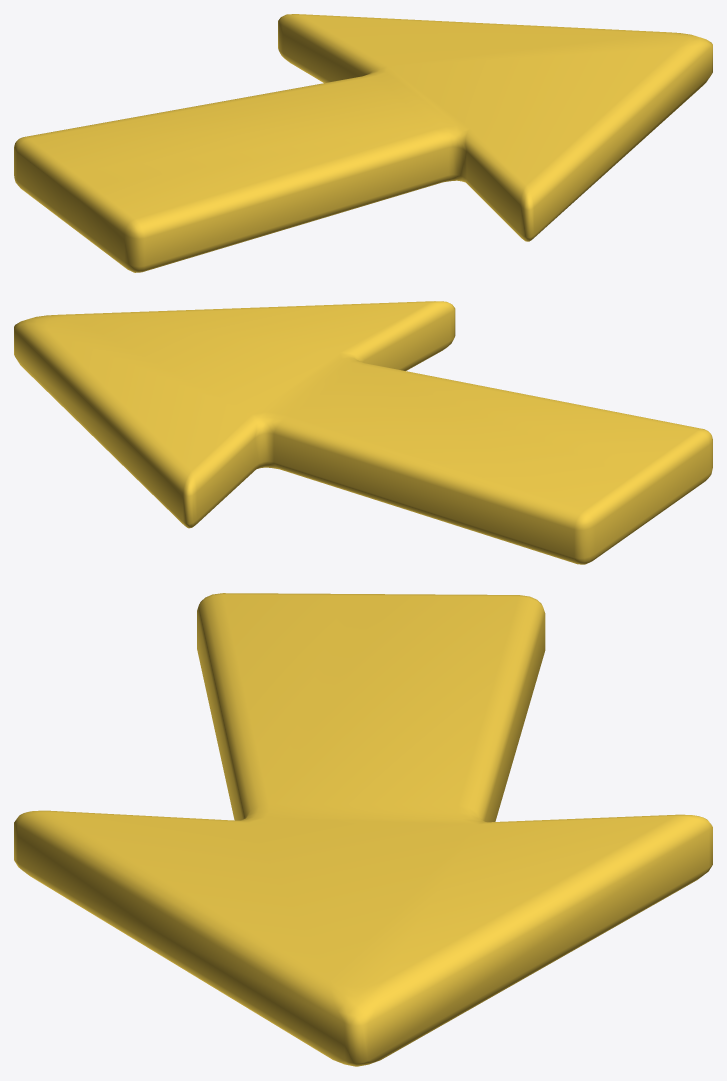
Rendered from orange.glb.
3 renders of one model, top to bottom at view 1: azimuth 30°, elevation 25°; view 2: azimuth 150°, elevation 25°; view 3: azimuth 270°, elevation 25°, orthographic. The views are drawn at different scales.
Parts seen in each view (by area): view 1: Arrow; view 2: Arrow; view 3: Arrow.
Part boxes in pixels (left/top/right/bottom): Arrow: left=14, top=14, right=712, bottom=272; Arrow: left=14, top=301, right=712, bottom=564; Arrow: left=14, top=593, right=712, bottom=1066.
Size of the model in its own units: 3.01 by 0.2343 by 2.11.
